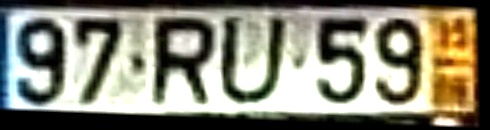5: (312, 15, 373, 107)
7: (70, 17, 125, 109)
9: (12, 15, 71, 109), (373, 13, 428, 110)
R: (146, 15, 219, 108)
U: (219, 15, 291, 108)
